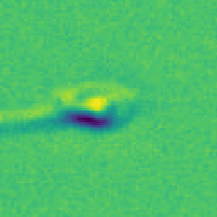normal: (1, 94, 66, 142)
